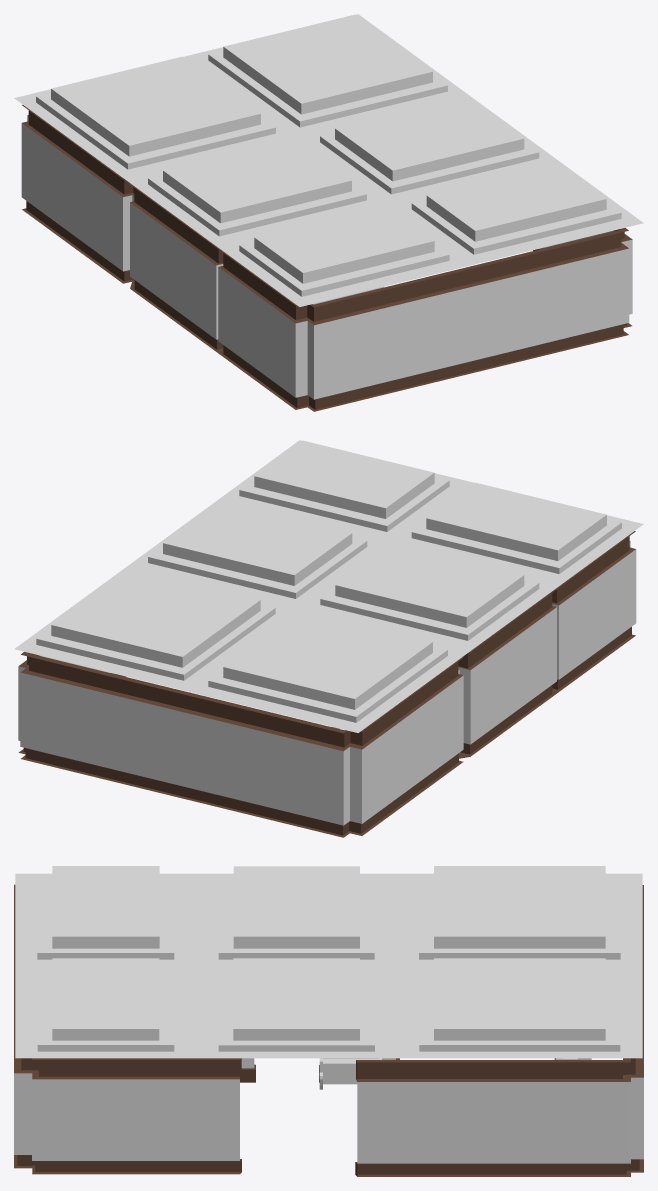
Rendered from Tiago_House_Interior.fbx.
3 views of the same model, one above another, from view 1: azimuth 30°, elevation 25°; view 2: azimuth 150°, elevation 25°; view 3: azimuth 270°, elevation 25° (orthographic). The views are drawn at different scales.
Visible parts, largest first — view 1: Plane, Cube; view 2: Plane, Cube; view 3: Plane, Cube, Piano.
Part boxes in pixels (x1,y1,x2,y2): Plane: (14,14,643,306); Cube: (21,105,632,411); Plane: (14,440,643,732); Cube: (18,531,636,837); Plane: (15,866,642,1058); Cube: (14,884,643,1176); Piano: (319,1058,381,1089).
Bounding box in the file's own units: 1410 × 486 × 2030.
